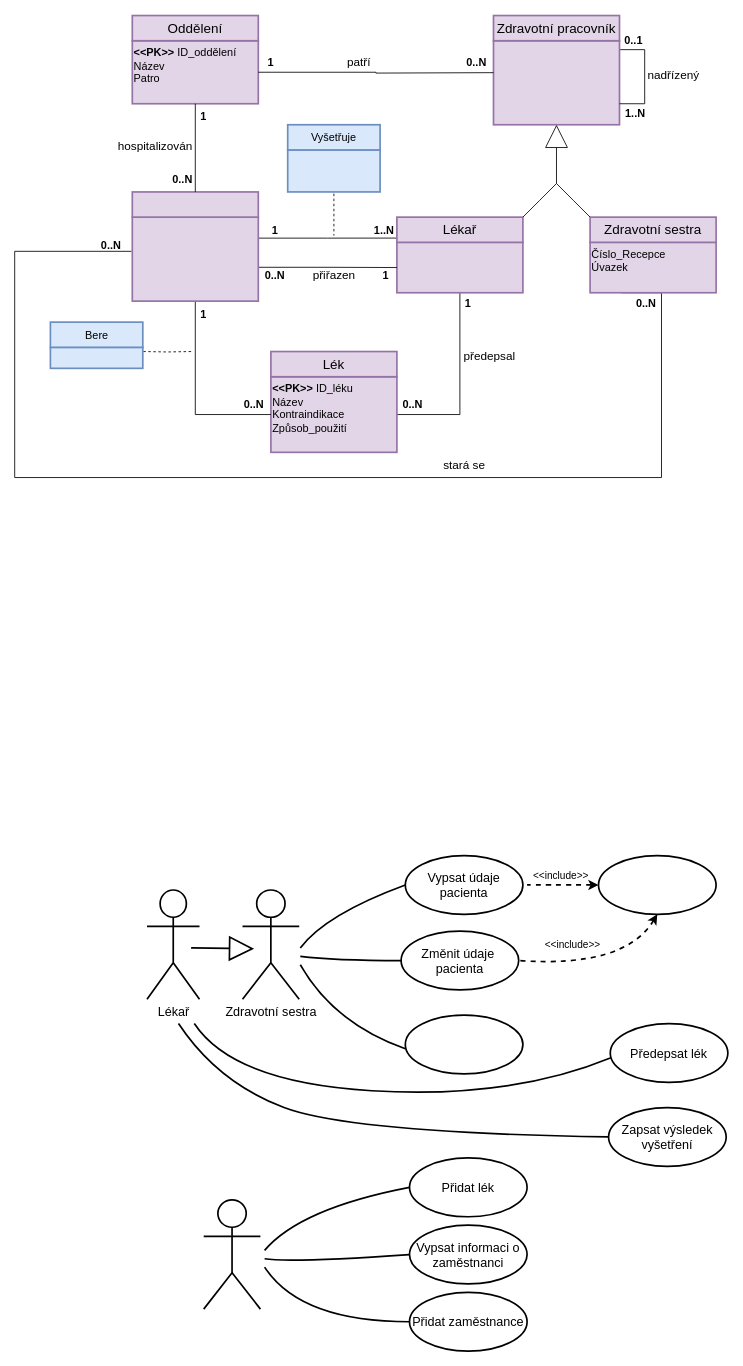
Some shapes in this 743 by 1366 pixel diagram are drawn without their labels. Here are the shapes that lost their labels. From the top down, the centre of each, then its label:
At [556,82]: "<<PK>> ID_pracovníka Jméno Rodné_číslo Telefon Email Specializace".
At [333,170]: "Datum Diagnóza".
At [195,204]: "Pacient".
At [195,259]: "<<PK>> ID_pacienta Jméno Rodné_číslo Telefon Alergie".
At [459,267]: "Číslo_pracovny".
At [96,357]: "Dávka".
At [657,884]: "Najít údaje".
At [463,1044]: "Přidat pacienta".
At [231,1254]: "Správce IS".
